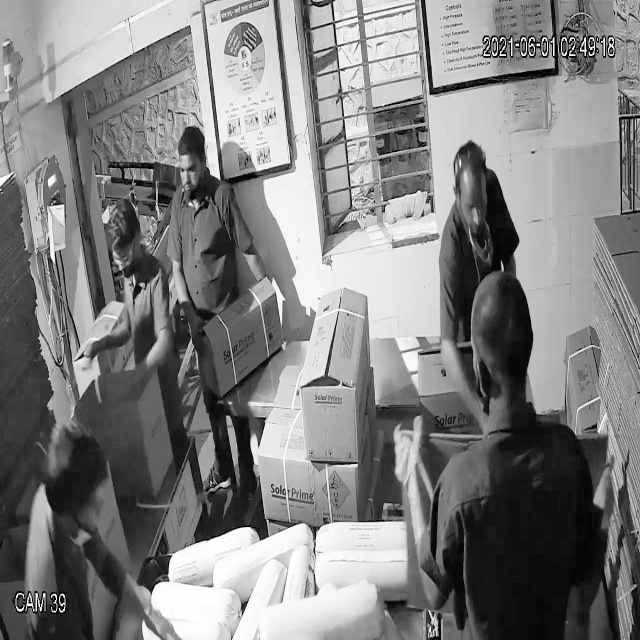Gafas: (103, 237, 143, 275)
Sin_gafas: (450, 188, 494, 219)
